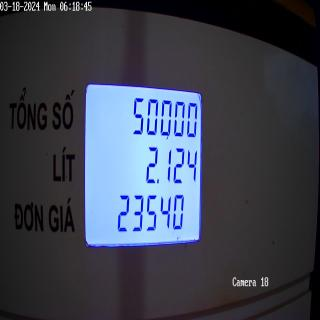screen: (82, 71, 207, 252)
